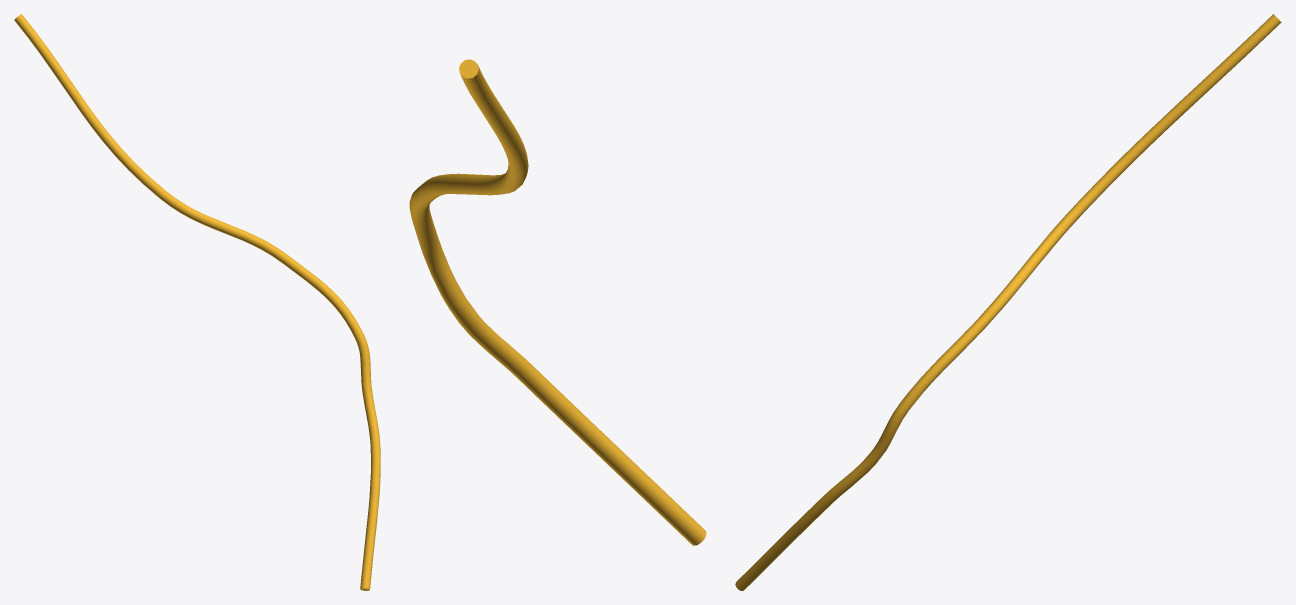
File: nervoso-chorda-tympani-r.glb
3 renders of one model, left to right at view 1: azimuth 30°, elevation 25°; view 2: azimuth 150°, elevation 25°; view 3: azimuth 270°, elevation 25°, orthographic. The views are drawn at different scales.
Parts seen in each view (by area): view 1: Chorda tympani.r; view 2: Chorda tympani.r; view 3: Chorda tympani.r.
Part boxes in pixels (x1,y1,x2,y2): Chorda tympani.r: (14, 14, 380, 590); Chorda tympani.r: (409, 59, 706, 545); Chorda tympani.r: (735, 14, 1281, 590).
Size of the model in its own units: 0.0109 by 0.024 by 0.0234.
